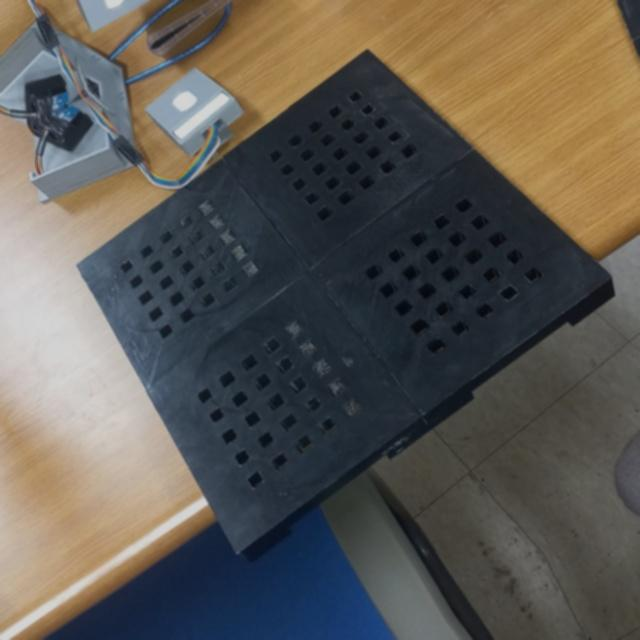pallet: (72, 37, 620, 566)
